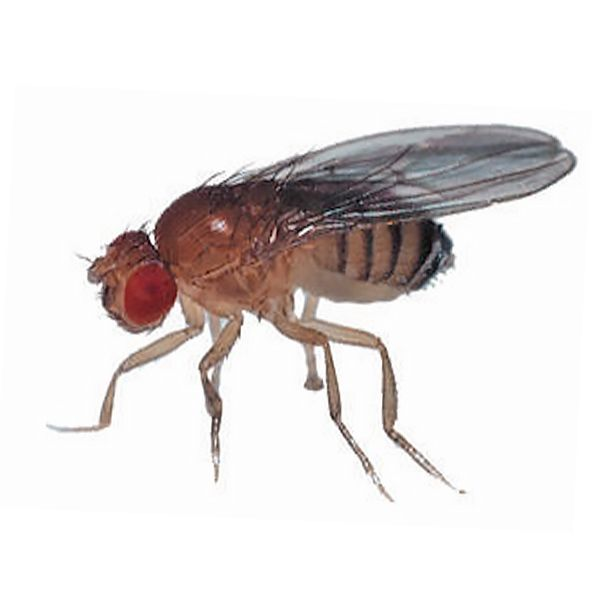Fruit fly: (46, 114, 597, 504)
